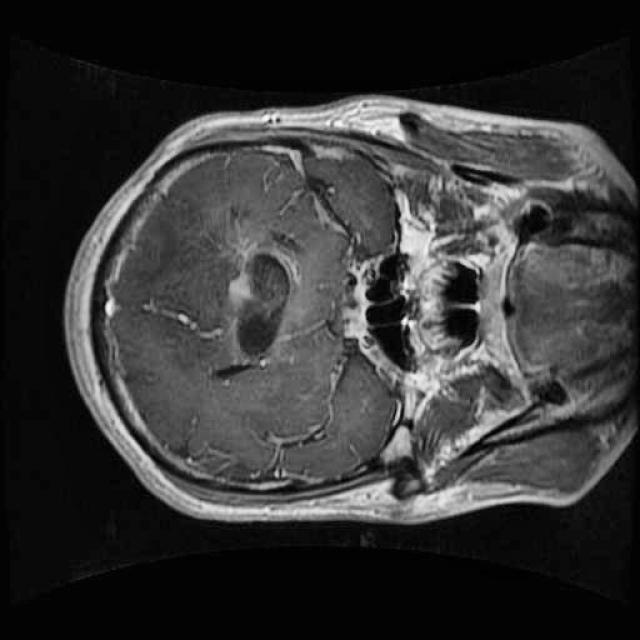Non-Tumor: (209, 210, 309, 396)
